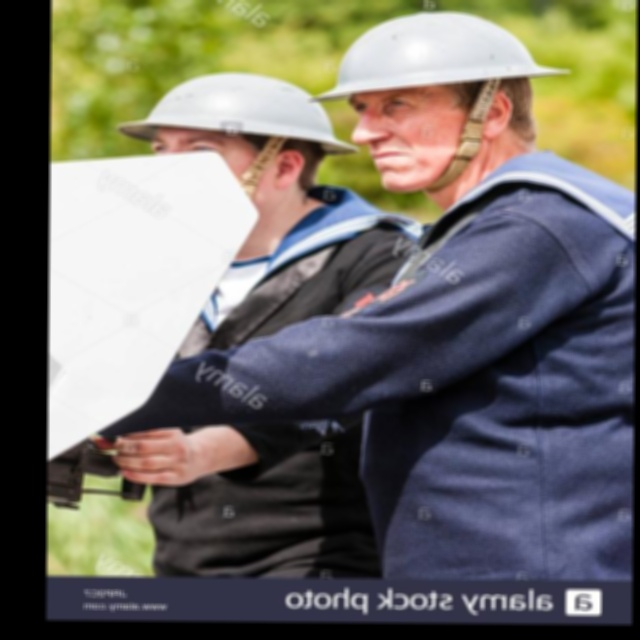Con_Casco: (308, 10, 575, 183)
